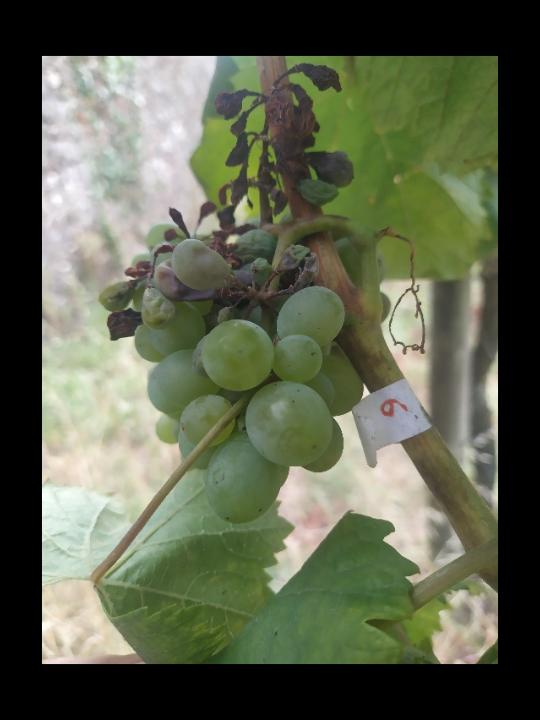grape: (97, 58, 357, 529)
